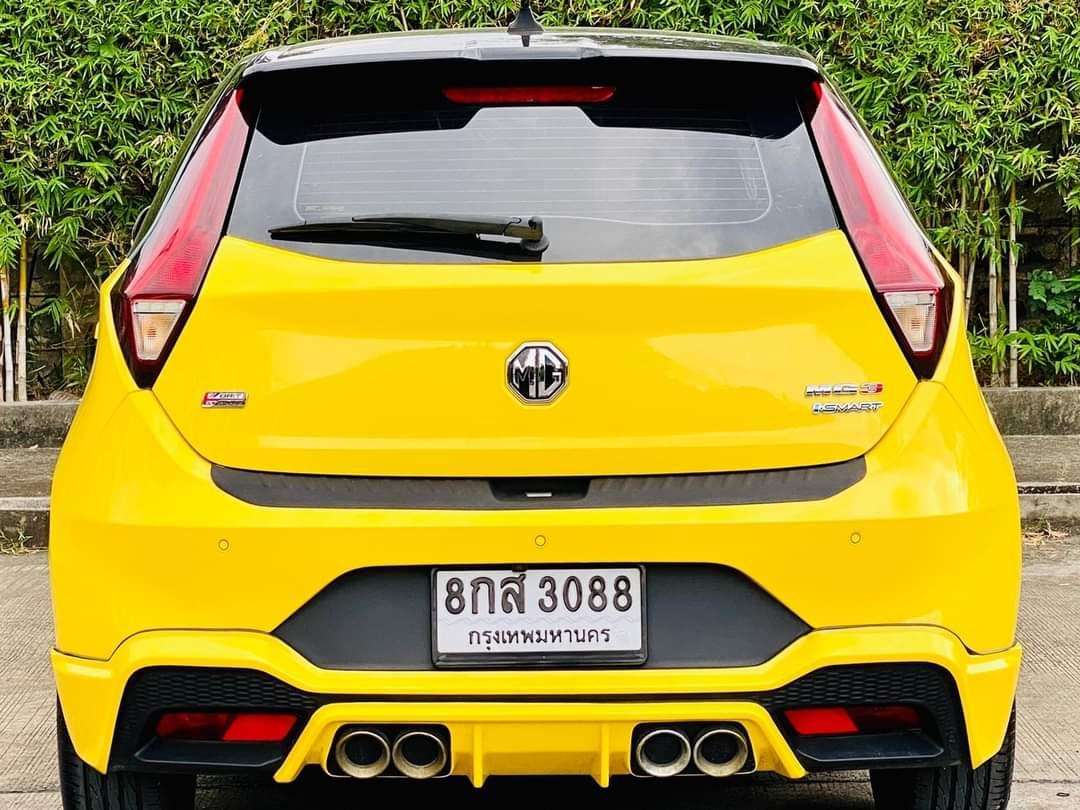license-plate: (428, 562, 650, 669)
